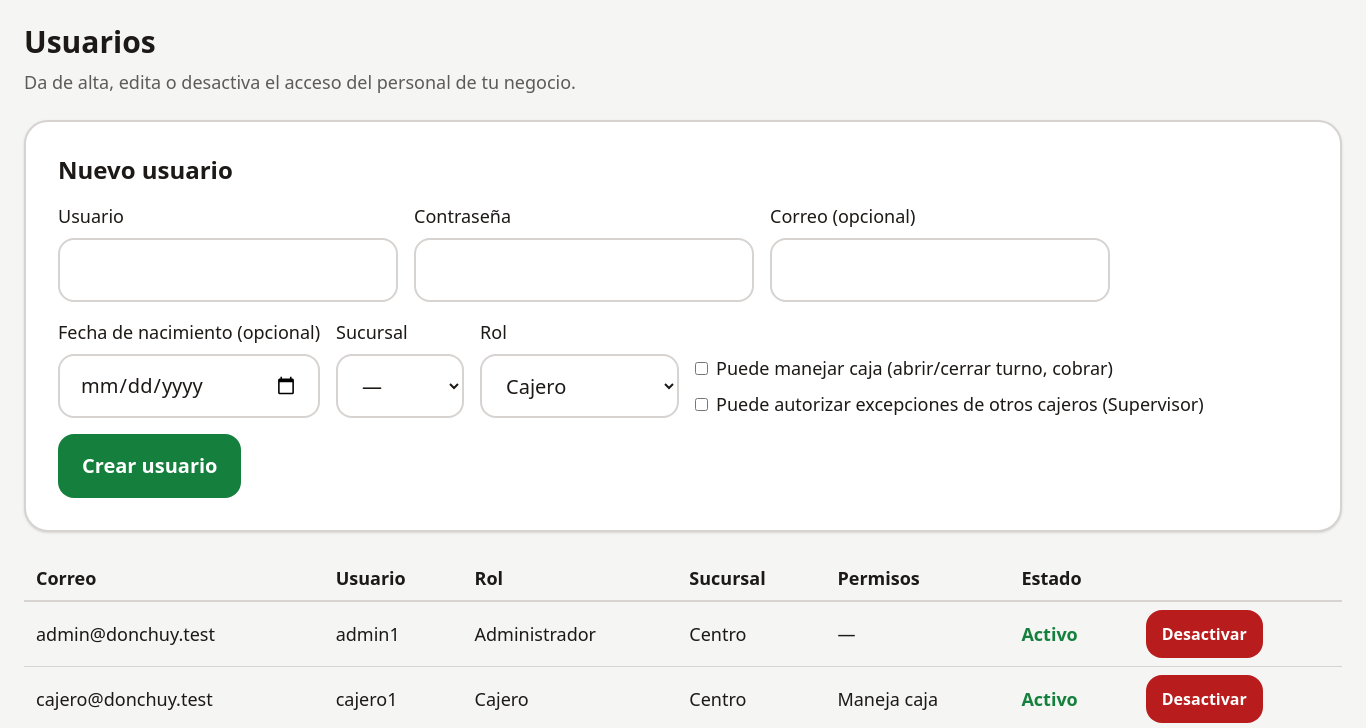
Test case: UserManagementScreen › muestra el error de la salvaguarda cuando se intenta desactivar al último admin
This screenshot has width=1366, height=728.
Expected: the text "admin@donchuy.test" is shown, [24,601,324,666]
Click the button "Desactivar" in the row of "admin@donchuy.test": (1204, 634) [1146,610,1263,658]
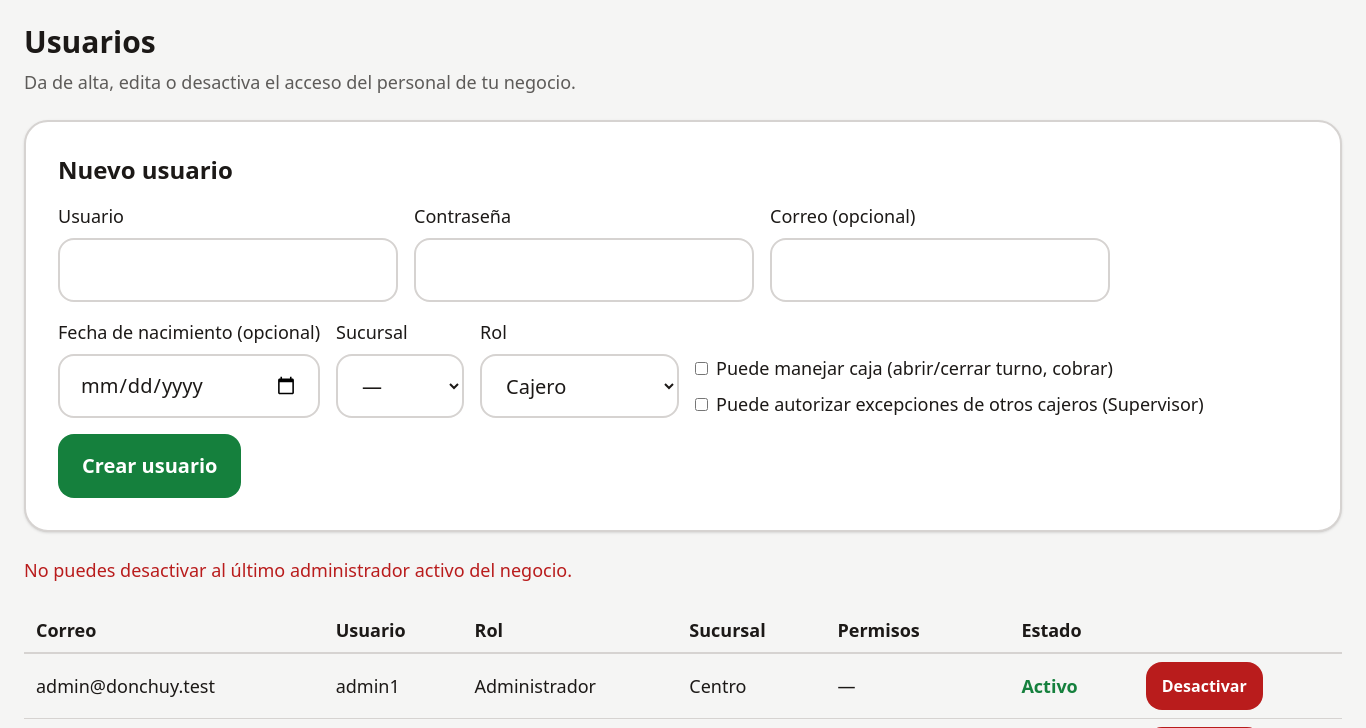
Expected: the text "No puedes desactivar al último administrador activo del negocio." is shown, [24,558,572,582]
